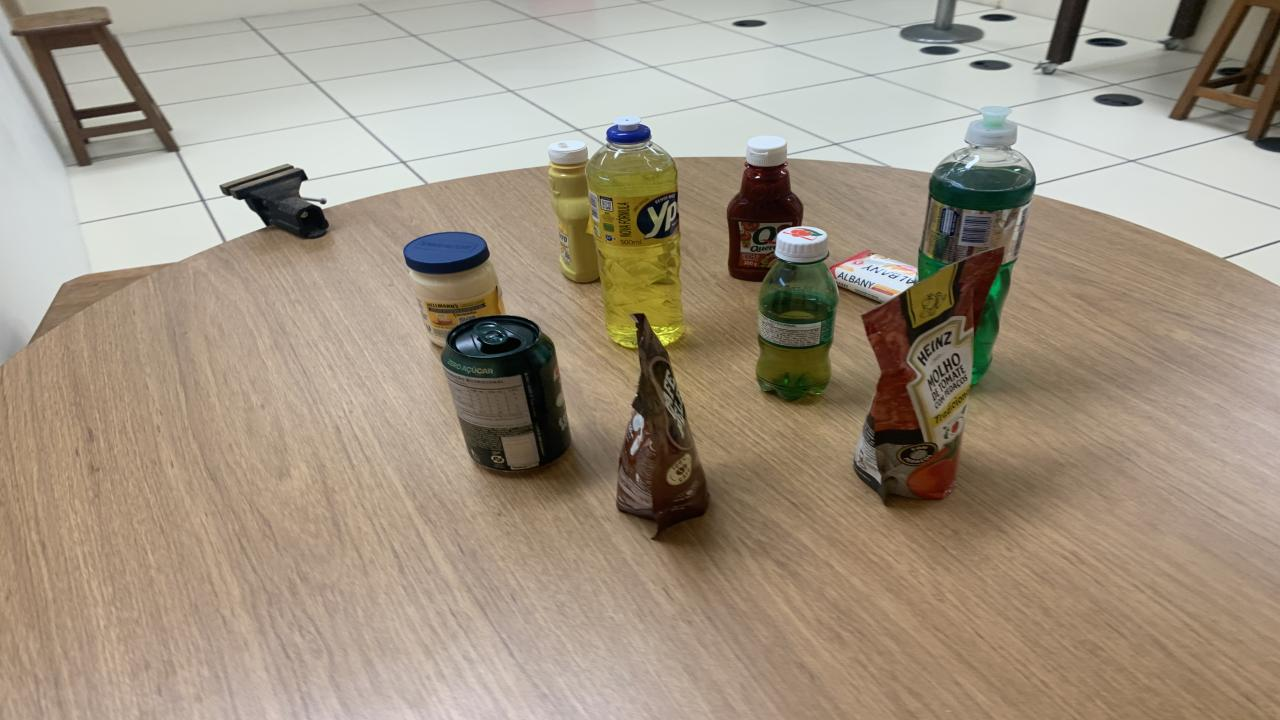Coffee-Pantry_Items: (618, 315, 708, 534)
Detergent-Cleanup_Items: (918, 107, 1035, 384), (585, 116, 685, 347)
Guarana-Drinks: (758, 227, 838, 399)
Guarana_Can-Drinks: (440, 315, 570, 472)
Ketchup-Pantry_Items: (728, 135, 802, 281)
Mayonnaise-Pantry_Items: (402, 232, 505, 347)
Mustard-Pantry_Items: (548, 141, 600, 283)
Soap-Cleanup_Items: (830, 251, 918, 302)
Tomato_Sauce-Pantry_Items: (855, 249, 1002, 499)
